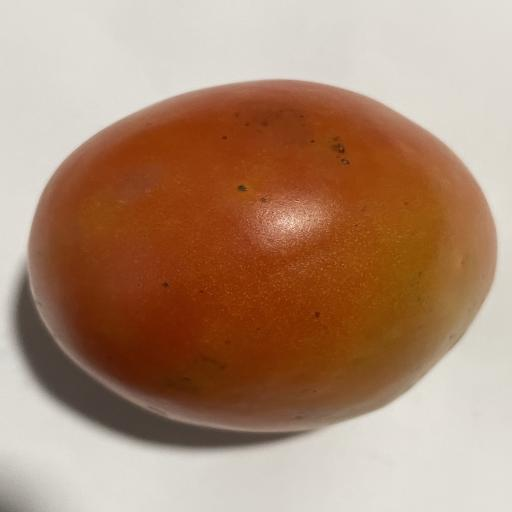unripe: (28, 80, 496, 432)
